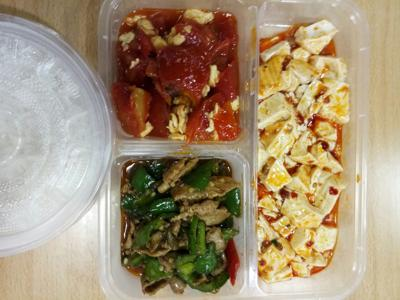cqj: (113, 154, 254, 297)
df: (255, 14, 360, 283)
jdxhs: (114, 6, 245, 147)
